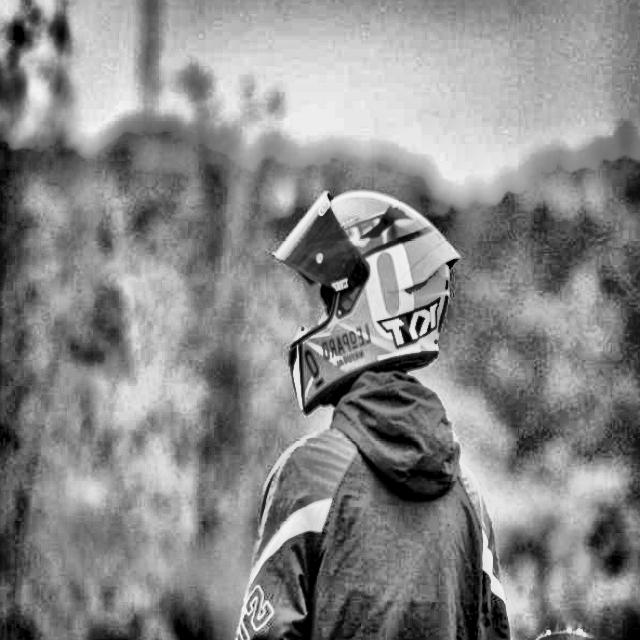Helmet: (266, 181, 469, 428)
